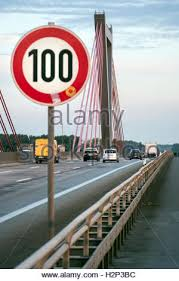Speed_limit_100km: (11, 26, 89, 106)
